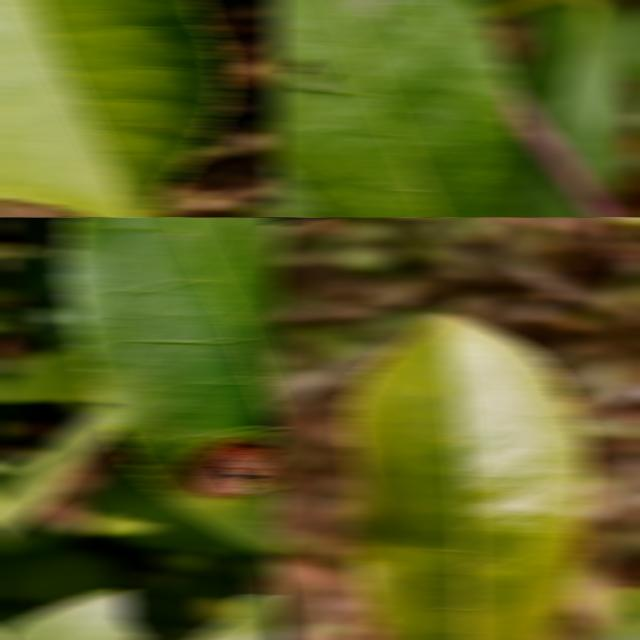Leaf: (344, 314, 592, 640), (60, 217, 281, 556), (269, 0, 519, 217), (0, 0, 229, 217), (507, 3, 634, 196), (0, 406, 117, 535), (501, 124, 594, 217), (0, 588, 145, 640), (0, 345, 106, 403), (190, 595, 281, 640)
